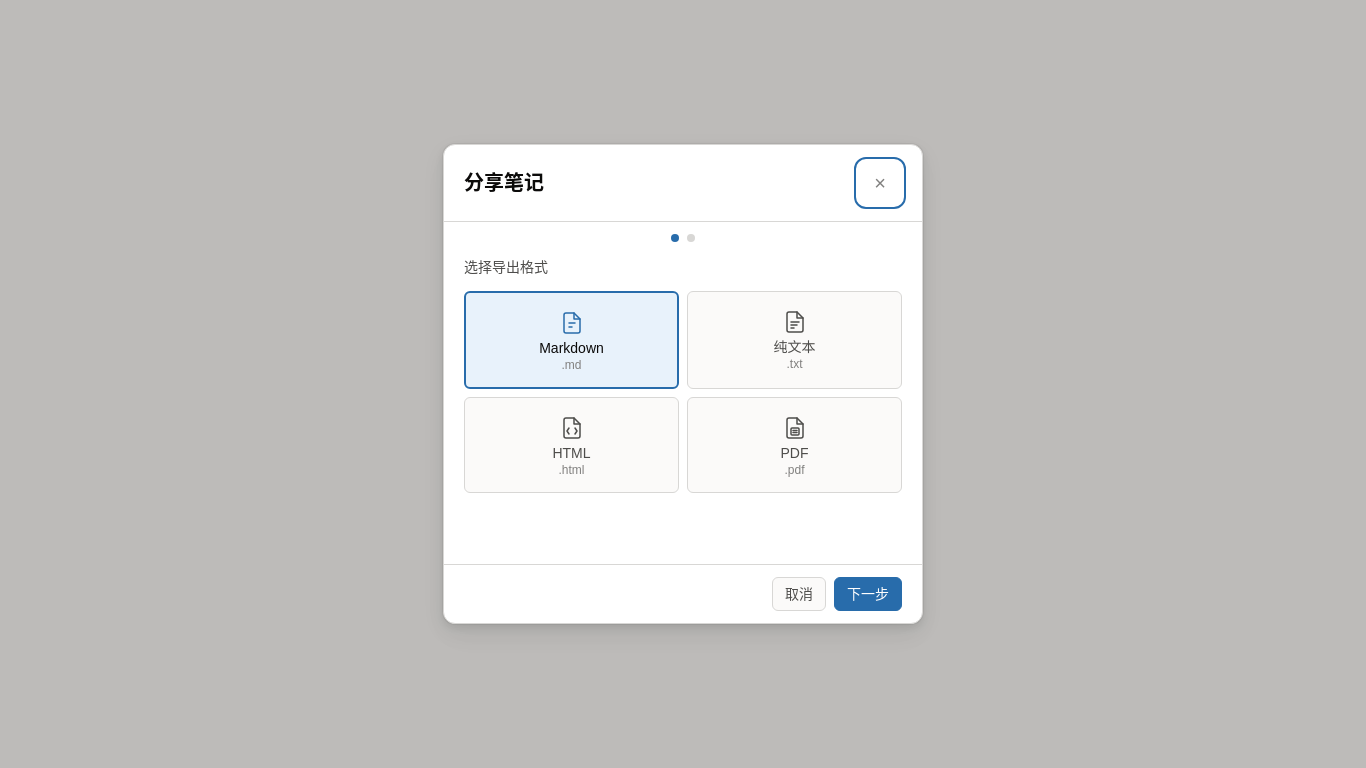
it: ShareDialog PDF 渠道禁用 › PDF 形态：系统分享/邮件/剪贴板禁用 + 引导文案，本地导出保持可用
What coordinates should you click on to do the following:
click the button with class "option-card" showing "PDF .pdf"
I would click on:
 (794, 445)
Its box is [687,397,902,493].
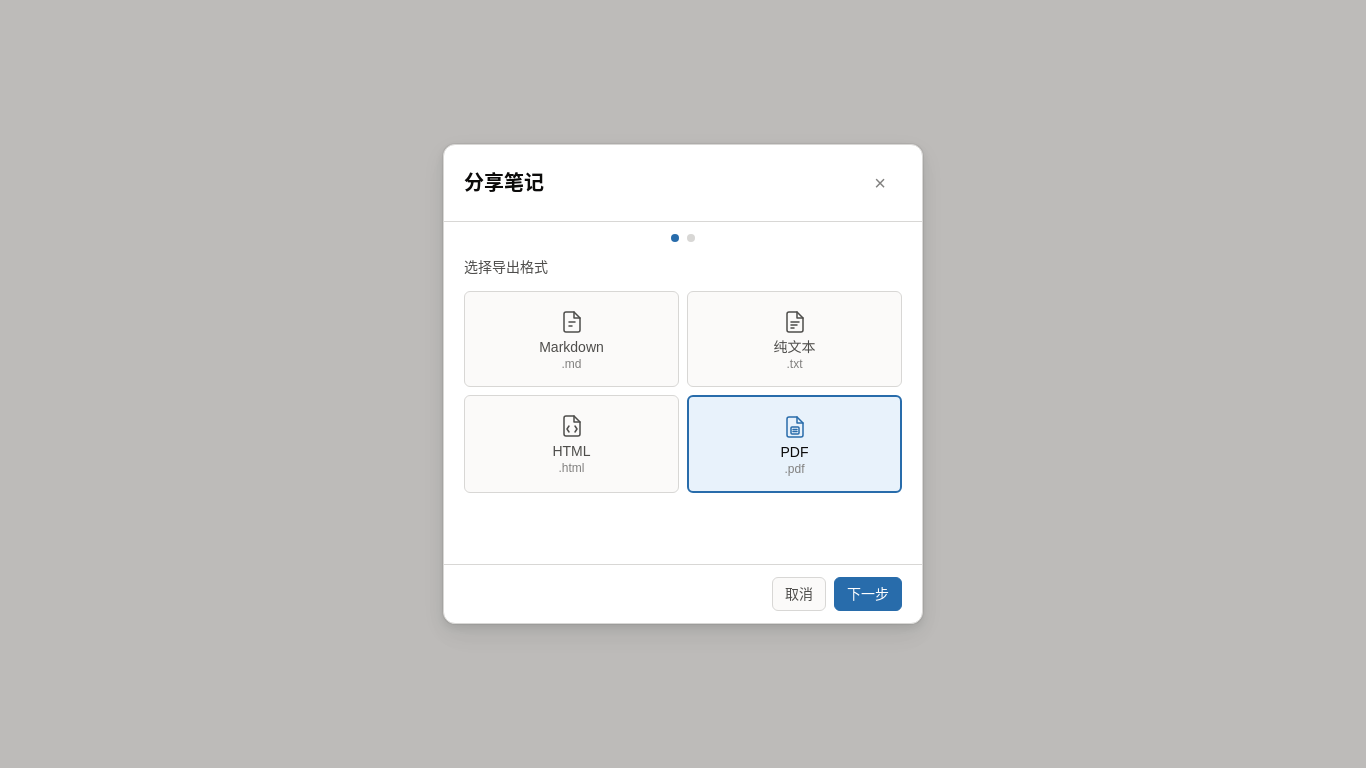
What coordinates should you click on to do the following:
click the button "下一步"
I would click on:
 (868, 594)
Its box is [834,577,902,611].
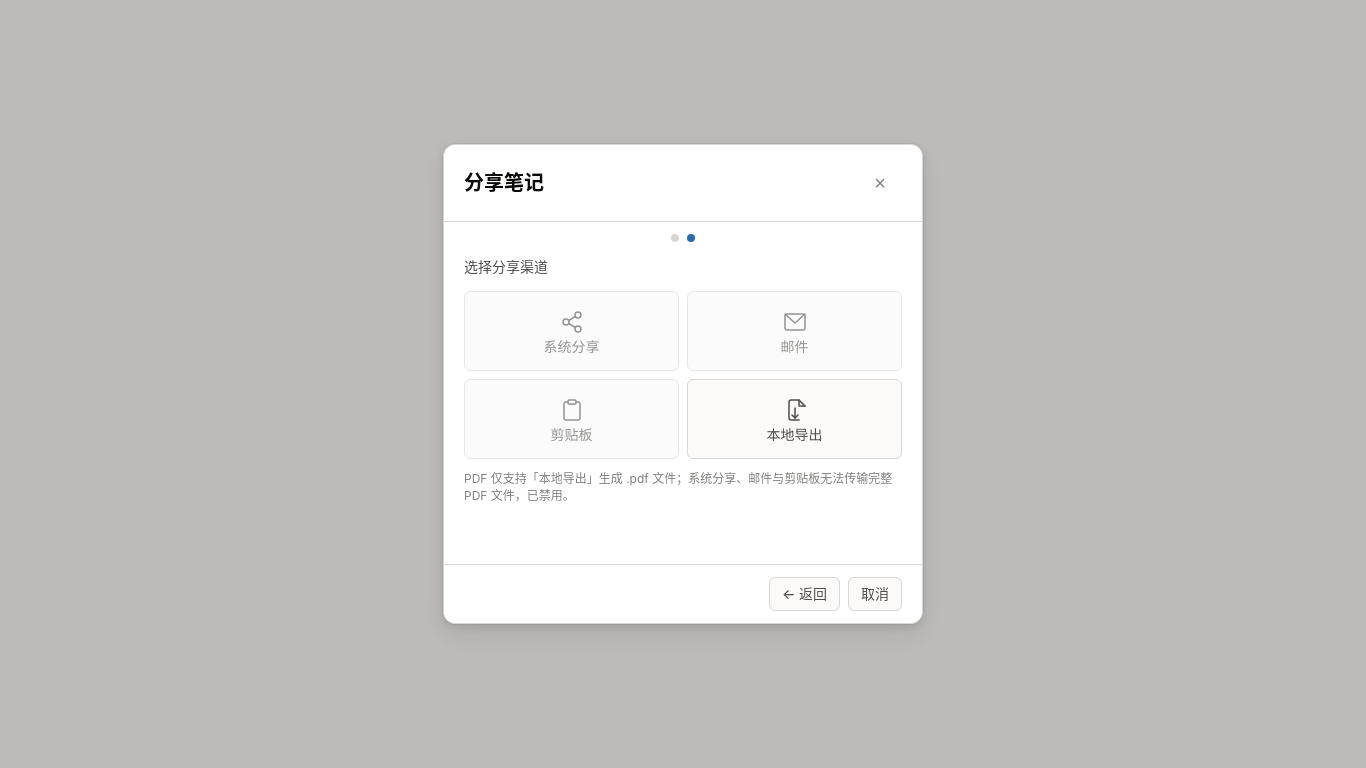
Result: the button with class "option-card" showing "系统分享" is disabled at [464,291,679,371]
Result: the button with class "option-card" showing "邮件" is disabled at [687,291,902,371]
Result: the button with class "option-card" showing "剪贴板" is disabled at [464,379,679,459]
